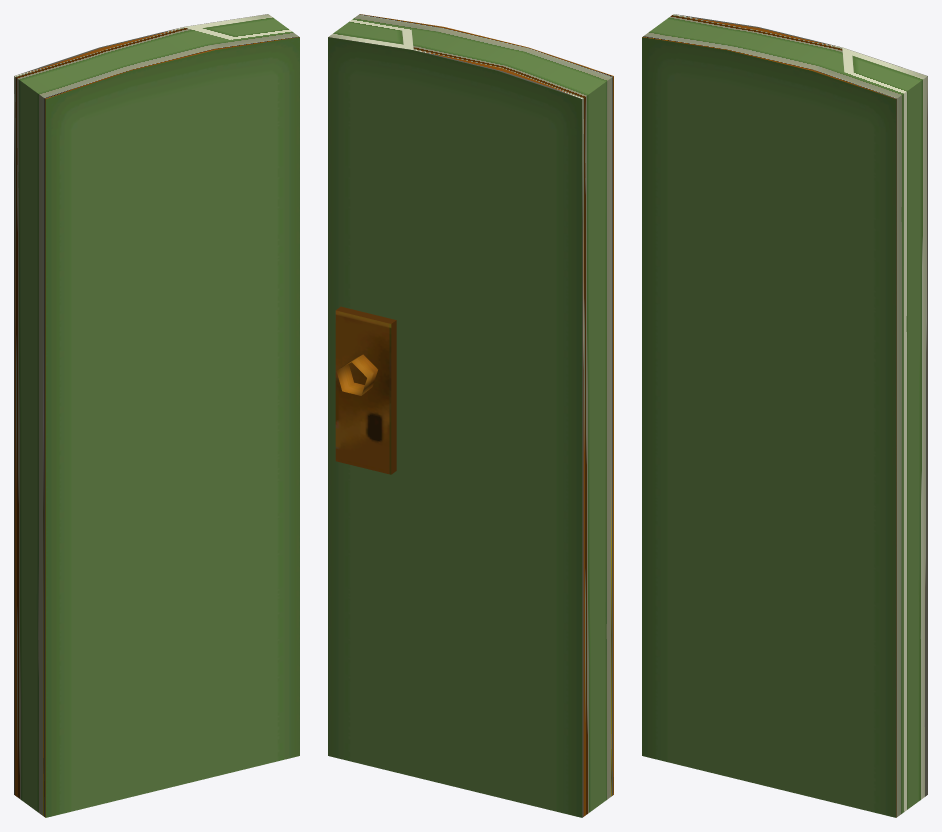
Rendered from green_door.FBX.
3 views of the same model, side by side, from view 1: azimuth 30°, elevation 25°; view 2: azimuth 150°, elevation 25°; view 3: azimuth 330°, elevation 25° (orthographic).
Visible parts, largest first — view 1: Mesh_0021; view 2: Mesh_0021; view 3: Mesh_0021.
Part boxes in pixels (x1,y1,x2,y2): Mesh_0021: [14, 14, 299, 817]; Mesh_0021: [328, 14, 613, 817]; Mesh_0021: [642, 14, 927, 817].
Bounding box in the file's own units: 261 × 714 × 86.3.
